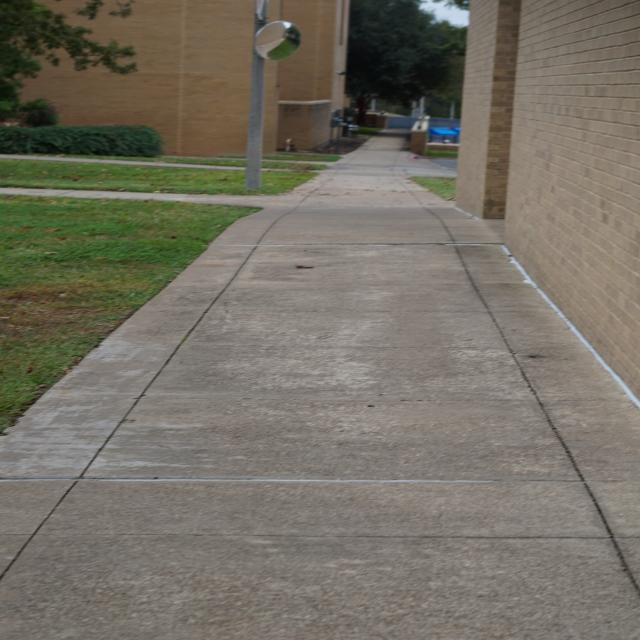Obstacle: (246, 0, 268, 189)
Road: (432, 159, 457, 168)
Sidewalk: (0, 139, 639, 640), (321, 136, 457, 192), (0, 188, 287, 208), (0, 154, 246, 171), (0, 154, 245, 171), (379, 116, 417, 143), (158, 154, 245, 161), (264, 159, 339, 165), (262, 168, 289, 172), (305, 228, 309, 233), (226, 309, 230, 313)
